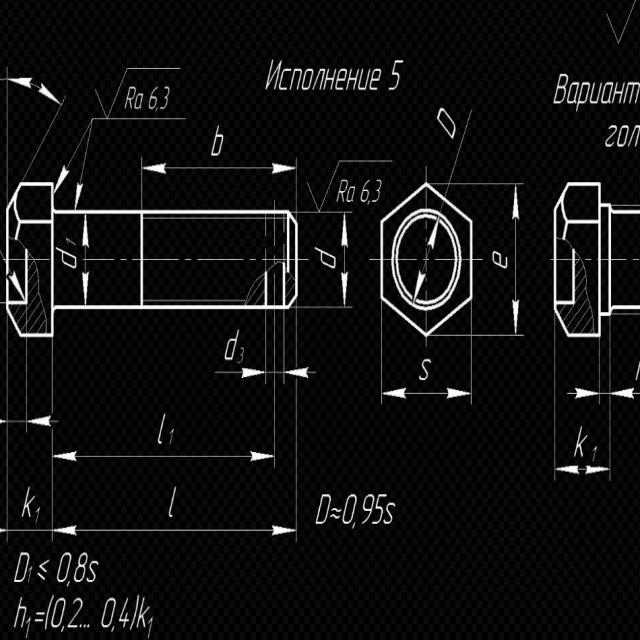marking_line: (53, 450, 274, 464), (55, 525, 296, 536), (145, 163, 296, 175), (509, 185, 521, 333), (5, 77, 61, 107), (338, 216, 351, 305), (385, 387, 470, 400), (215, 363, 264, 381), (80, 215, 90, 303), (558, 465, 607, 475), (27, 416, 59, 431), (611, 386, 640, 402), (568, 385, 599, 399), (286, 367, 316, 380)
numeric: (64, 595, 83, 633), (53, 552, 73, 585), (49, 595, 66, 633), (338, 494, 356, 526), (102, 597, 118, 633), (373, 488, 385, 531), (74, 548, 87, 587), (361, 495, 374, 530), (119, 599, 133, 630), (147, 84, 160, 112), (359, 178, 373, 203), (159, 82, 170, 111)
special_symbol: (90, 61, 128, 120), (306, 147, 339, 208)
